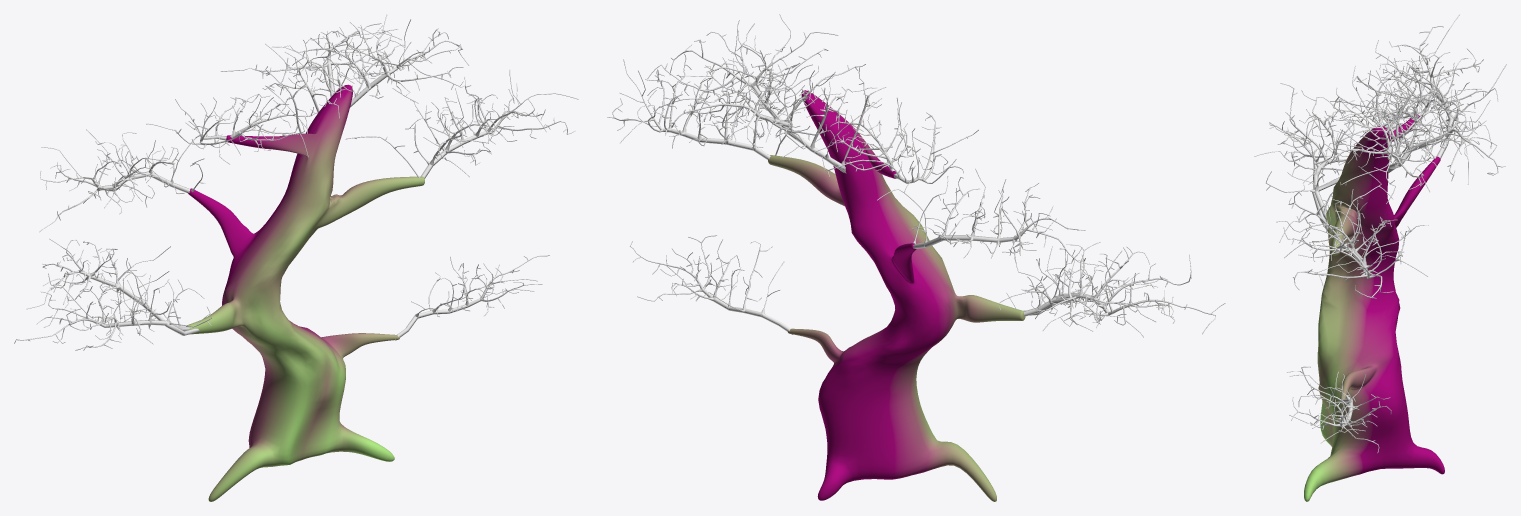
The model's file is living-v01.glb.
3 renders of one model, left to right at view 1: azimuth 30°, elevation 25°; view 2: azimuth 150°, elevation 25°; view 3: azimuth 270°, elevation 25°, orthographic. The views are drawn at different scales.
Parts seen in each view (by area): view 1: Continuous aged trunk and primary branches, Terminal twig hierarchy; view 2: Continuous aged trunk and primary branches, Terminal twig hierarchy; view 3: Continuous aged trunk and primary branches, Terminal twig hierarchy.
Boxes of the visible parts, x1,y1,x2,y2 form: Continuous aged trunk and primary branches: (186,84,424,501); Terminal twig hierarchy: (14,14,578,350); Continuous aged trunk and primary branches: (768,90,1025,501); Terminal twig hierarchy: (607,14,1225,337); Continuous aged trunk and primary branches: (1304,114,1444,501); Terminal twig hierarchy: (1254,14,1506,453).
Size of the model in its own units: 2.71 by 1.92 by 1.01.
